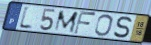5: (38, 8, 57, 32)
F: (73, 10, 98, 36)
L: (17, 5, 35, 32)
M: (53, 10, 80, 34)
O: (93, 13, 114, 37)
S: (112, 16, 133, 40)
